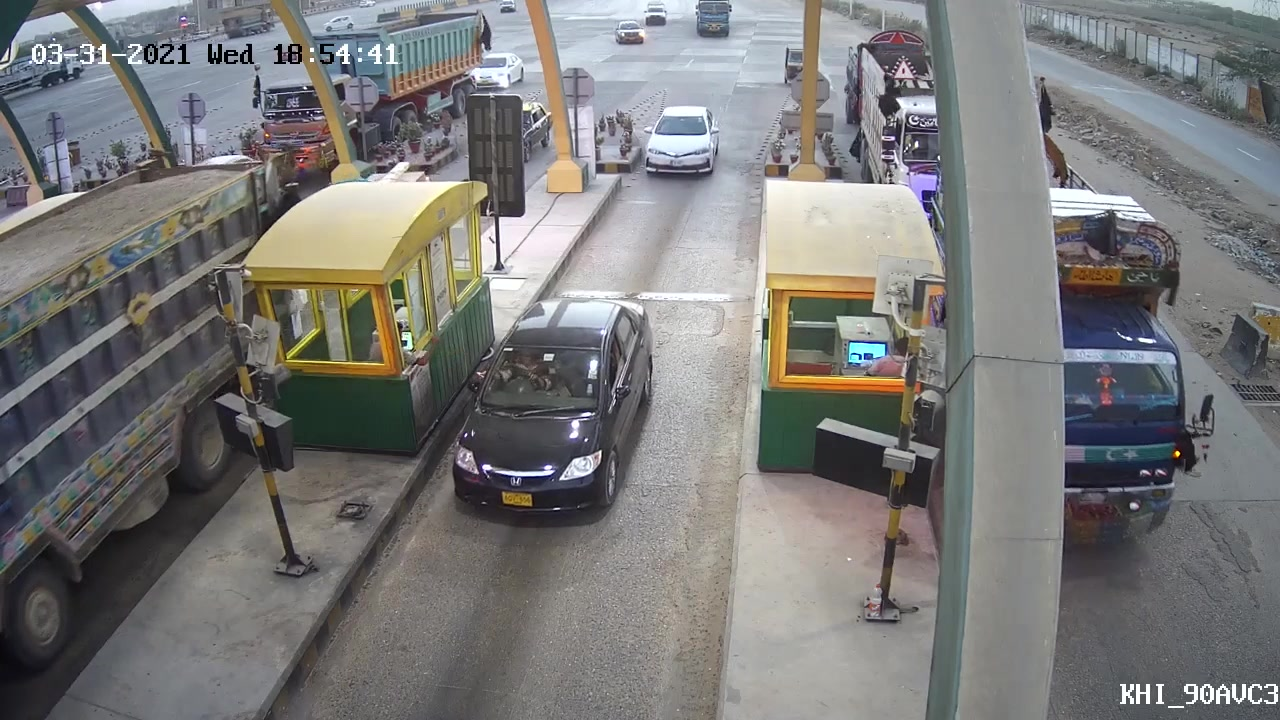F1: (445, 292, 656, 525)
